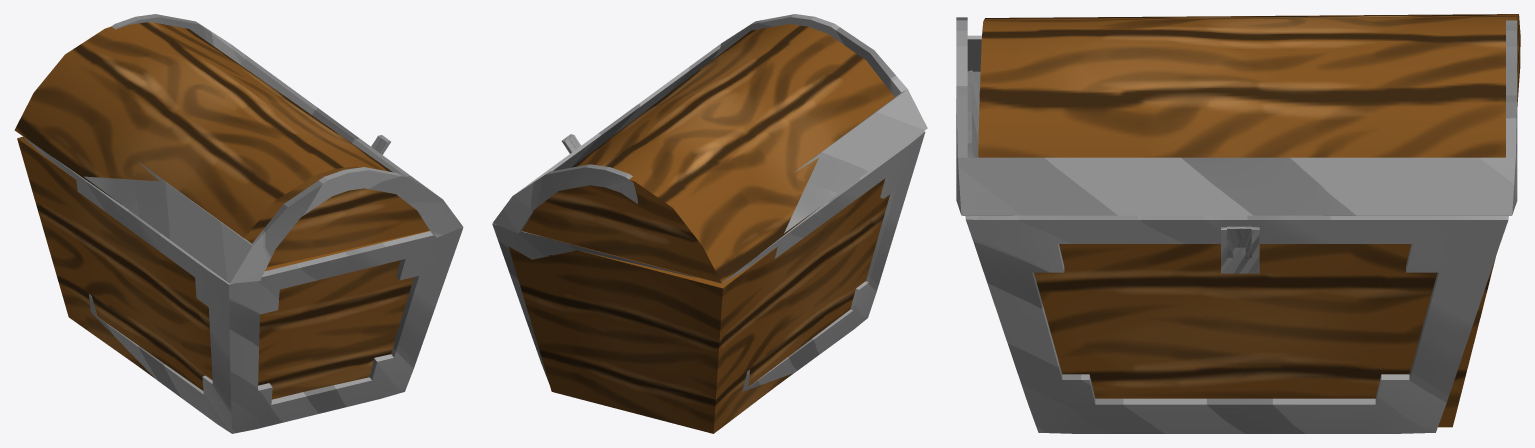
Rendered from Test CHest.FBX.
3 views of the same model, side by side, from view 1: azimuth 30°, elevation 25°; view 2: azimuth 150°, elevation 25°; view 3: azimuth 270°, elevation 25° (orthographic). The views are drawn at different scales.
Visible parts, largest first — view 1: Kayu, Metal; view 2: Kayu, Metal; view 3: Kayu, Metal.
Part boxes in pixels (bbox=[...]): Kayu: bbox=[14, 22, 429, 399]; Metal: bbox=[23, 14, 463, 433]; Kayu: bbox=[508, 24, 894, 433]; Metal: bbox=[492, 14, 927, 391]; Kayu: bbox=[978, 14, 1520, 427]; Metal: bbox=[956, 17, 1517, 433].
Size of the model in its own units: 129 by 181 by 123.
2 materials, 2 textured.
